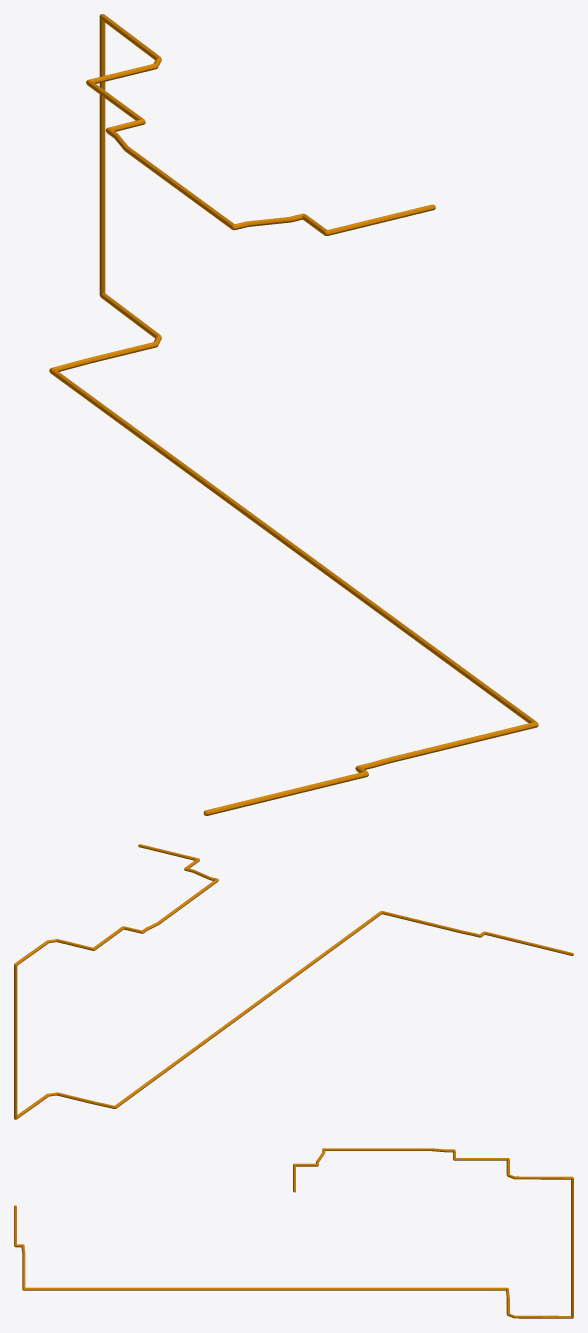
The picture shows the model from 3 angles, top to bottom: view 1: azimuth 30°, elevation 25°; view 2: azimuth 150°, elevation 25°; view 3: azimuth 270°, elevation 25°; orthographic projection. The views are drawn at different scales.
Size of the model in its own units: 1921 by 1020 by 3648.
